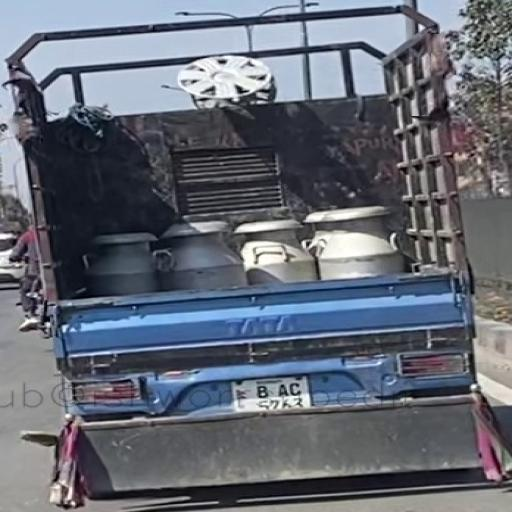license_plate: (229, 373, 317, 416)
